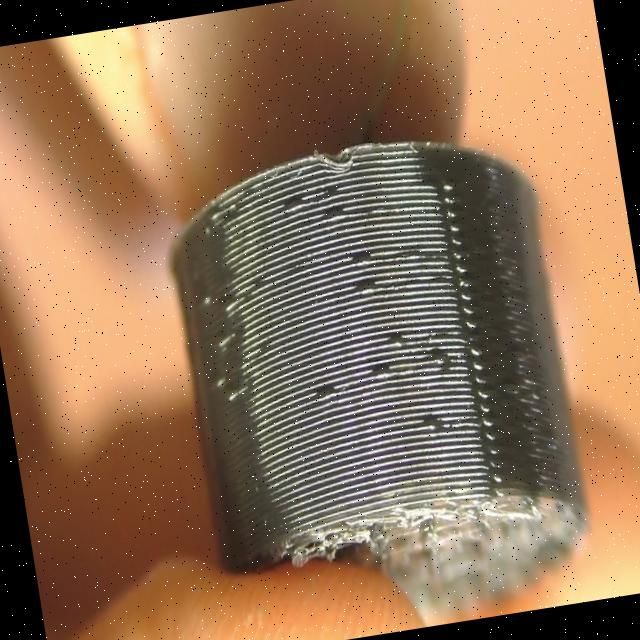blobs: (296, 288, 474, 464), (174, 249, 285, 426), (260, 159, 379, 266)
